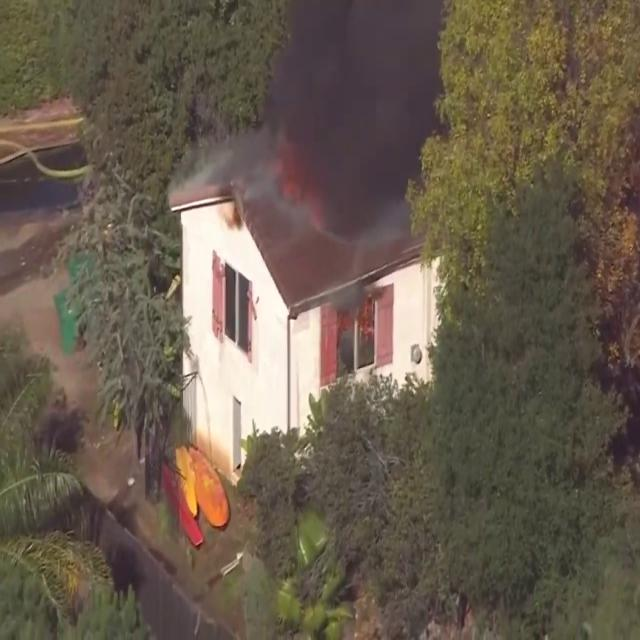Smoke: (238, 0, 458, 235)
